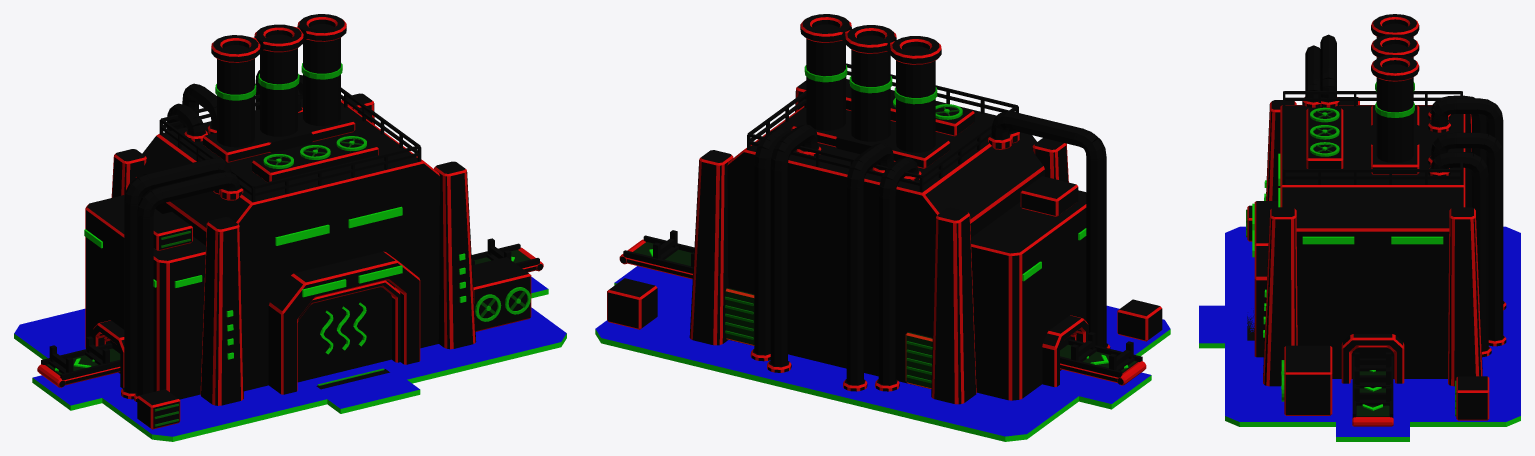
The model's file is SM_Holo_Smelter_T3.fbx.
3 renders of one model, left to right at view 1: azimuth 30°, elevation 25°; view 2: azimuth 150°, elevation 25°; view 3: azimuth 270°, elevation 25°, orthographic. The views are drawn at different scales.
Visible parts, largest first — view 1: SM_Holo_Smelter_T3; view 2: SM_Holo_Smelter_T3; view 3: SM_Holo_Smelter_T3.
Part boxes in pixels (<box>): SM_Holo_Smelter_T3: <box>14,14,566,441</box>; SM_Holo_Smelter_T3: <box>595,14,1170,441</box>; SM_Holo_Smelter_T3: <box>1199,14,1520,441</box>.
Bounding box in the file's own units: 29.31 × 17.07 × 17.4.
